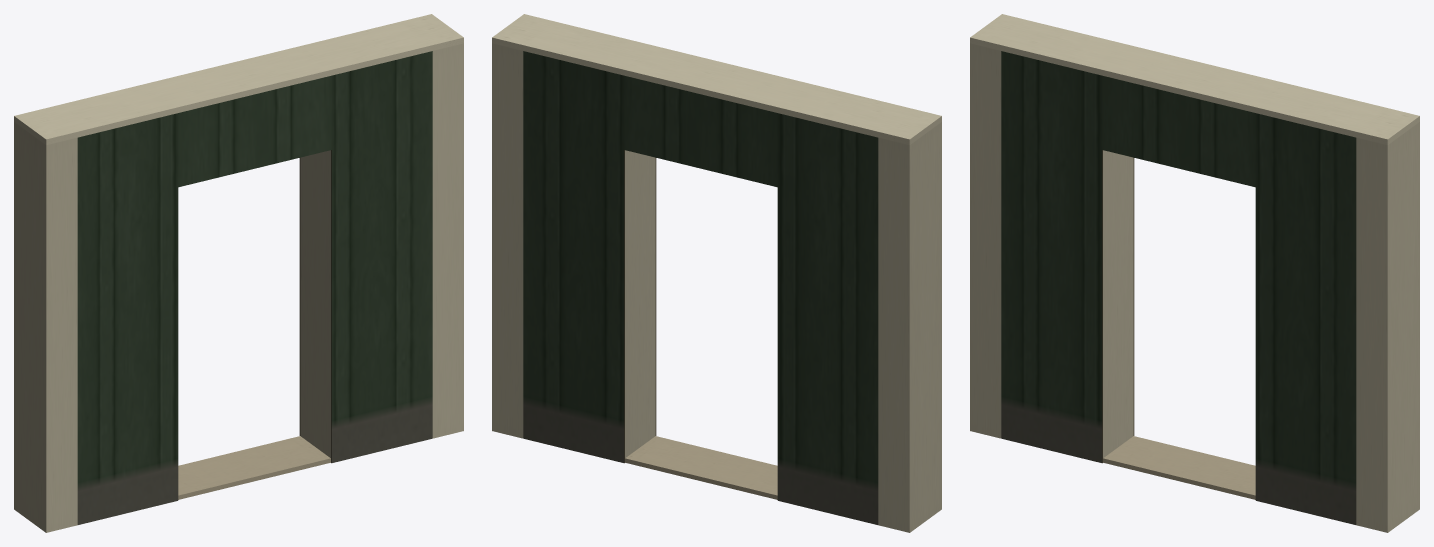
File: house_04_wall_doorway.glb
3 views of the same model, side by side, from view 1: azimuth 30°, elevation 25°; view 2: azimuth 150°, elevation 25°; view 3: azimuth 330°, elevation 25° (orthographic).
Parts seen in each view (by area): view 1: outdoor_house_04_wall_doorway; view 2: outdoor_house_04_wall_doorway; view 3: outdoor_house_04_wall_doorway.
Boxes of the visible parts, x1,y1,x2,y2 form: outdoor_house_04_wall_doorway: (14,14,463,532); outdoor_house_04_wall_doorway: (492,14,941,532); outdoor_house_04_wall_doorway: (970,14,1419,532).
Bounding box in the file's own units: 3 × 2.7 × 0.4.
Materials: 1 (1 with a texture image).
